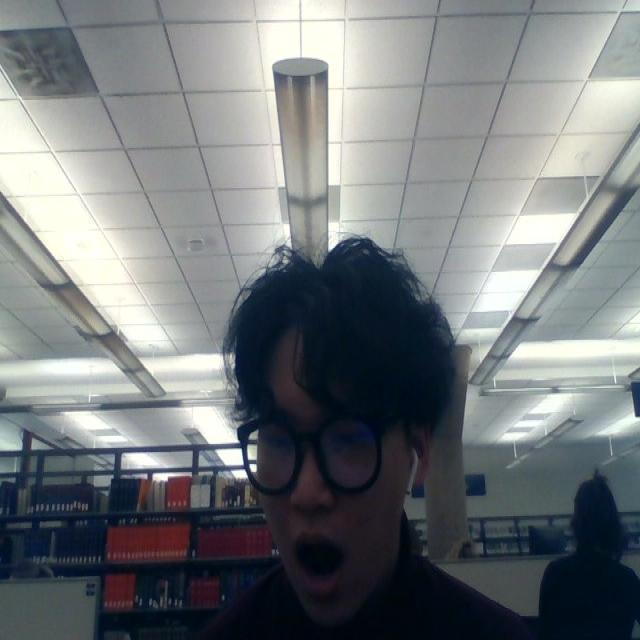Yawn: (259, 394, 381, 590)
